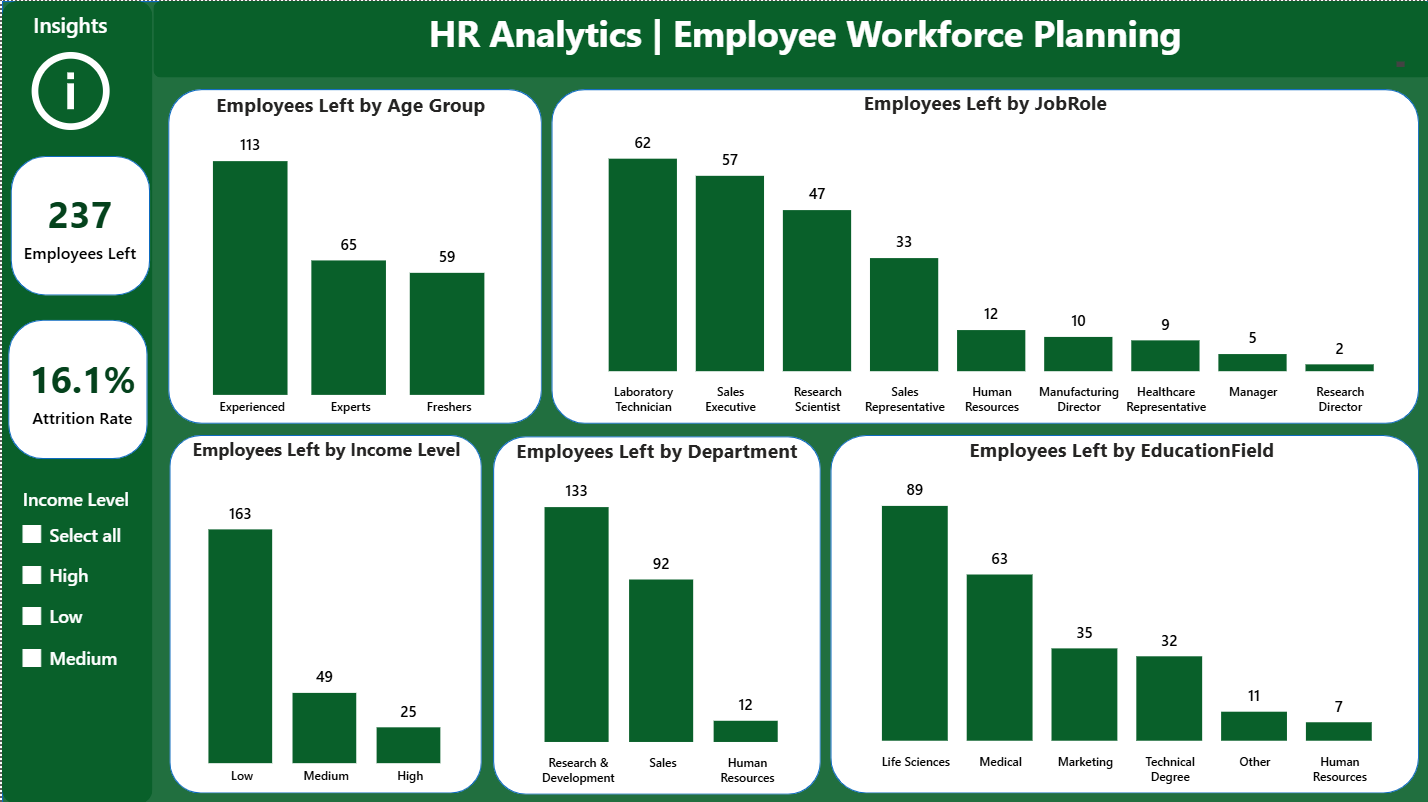

The page's visual inventory and layout, read from the dashboard file:
{"tool":"powerbi","page":{"name":"Hiring Planning","canvas":[1280,720],"ordinal":1},"visuals":[{"type":"shape","box":[0,0,1280,720],"z":0},{"type":"shape","box":[0,0,135,720],"z":1000},{"type":"shape","box":[135,0,1146.2,68.8],"z":2000},{"type":"shape","box":[492.5,78.8,777.5,300],"z":3000},{"type":"columnChart","fields":{"Category":["HR Process.JobRole"],"Y":["Measure(dax).Employees Left"]},"box":[495,78.8,771.2,300],"z":4000},{"type":"shape","box":[148.8,78.8,335,300],"z":5000},{"type":"columnChart","fields":{"Y":["Measure(dax).Employees Left"],"Category":["HR Process.Age Group"]},"box":[148.8,81.2,327.5,300],"z":6000},{"type":"shape","box":[742.5,388.8,527.5,321.2],"z":7000},{"type":"shape","box":[440,390,293.8,321.2],"z":8000},{"type":"shape","box":[150,388.8,280,321.2],"z":9000},{"type":"columnChart","fields":{"Y":["Measure(dax).Employees Left"],"Category":["HR Process.EducationField"]},"box":[742.5,390,522.5,320],"z":10000},{"type":"columnChart","fields":{"Y":["Measure(dax).Employees Left"],"Category":["HR Process.Department"]},"box":[440,391.2,293.8,320],"z":11000},{"type":"columnChart","fields":{"Y":["Measure(dax).Employees Left"],"Category":["HR Process.Income Level"]},"box":[150,391.2,281.2,320],"z":12000},{"type":"textbox","title":"HR Analytics | Employee Workforce Planning","box":[177.5,6.2,1083.8,57.5],"z":13000},{"type":"actionButton","title":"Insights","box":[15,8.8,91.2,113.8],"z":14000},{"type":"slicer","fields":{"Values":["HR Process.Income Level"]},"box":[5,431.2,135,182.5],"z":15000},{"type":"shape","box":[7.5,138.8,125,125],"z":16000},{"type":"card","fields":{"Values":["Measure(dax).Employees Left"]},"box":[10,160,120,81.2],"z":17000},{"type":"shape","box":[5,285,125,125],"z":18000},{"type":"card","fields":{"Values":["Measure(dax).Attrition Rate"]},"box":[12.5,307.5,120,81.2],"z":19000}]}

Visuals, with their boxes in screenshot pixels (x1, y1, x2, y2), scaled from the page's 1280x720 canvas onto the 1428x802 screenshot:
shape: (0,0,1427,801)
shape: (0,0,151,801)
shape: (151,0,1427,77)
shape: (549,88,1417,422)
columnChart - HR Process.JobRole x Measure(dax).Employees Left: (552,88,1413,422)
shape: (166,88,540,422)
columnChart - Measure(dax).Employees Left x HR Process.Age Group: (166,90,531,425)
shape: (828,433,1417,791)
shape: (491,434,819,792)
shape: (167,433,480,791)
columnChart - Measure(dax).Employees Left x HR Process.EducationField: (828,434,1411,791)
columnChart - Measure(dax).Employees Left x HR Process.Department: (491,436,819,792)
columnChart - Measure(dax).Employees Left x HR Process.Income Level: (167,436,481,792)
"HR Analytics | Employee Workforce Planning" textbox: (198,7,1407,71)
"Insights" actionButton: (17,10,118,137)
slicer - HR Process.Income Level: (6,480,156,684)
shape: (8,155,148,294)
card - Measure(dax).Employees Left: (11,178,145,269)
shape: (6,317,145,457)
card - Measure(dax).Attrition Rate: (14,343,148,433)
